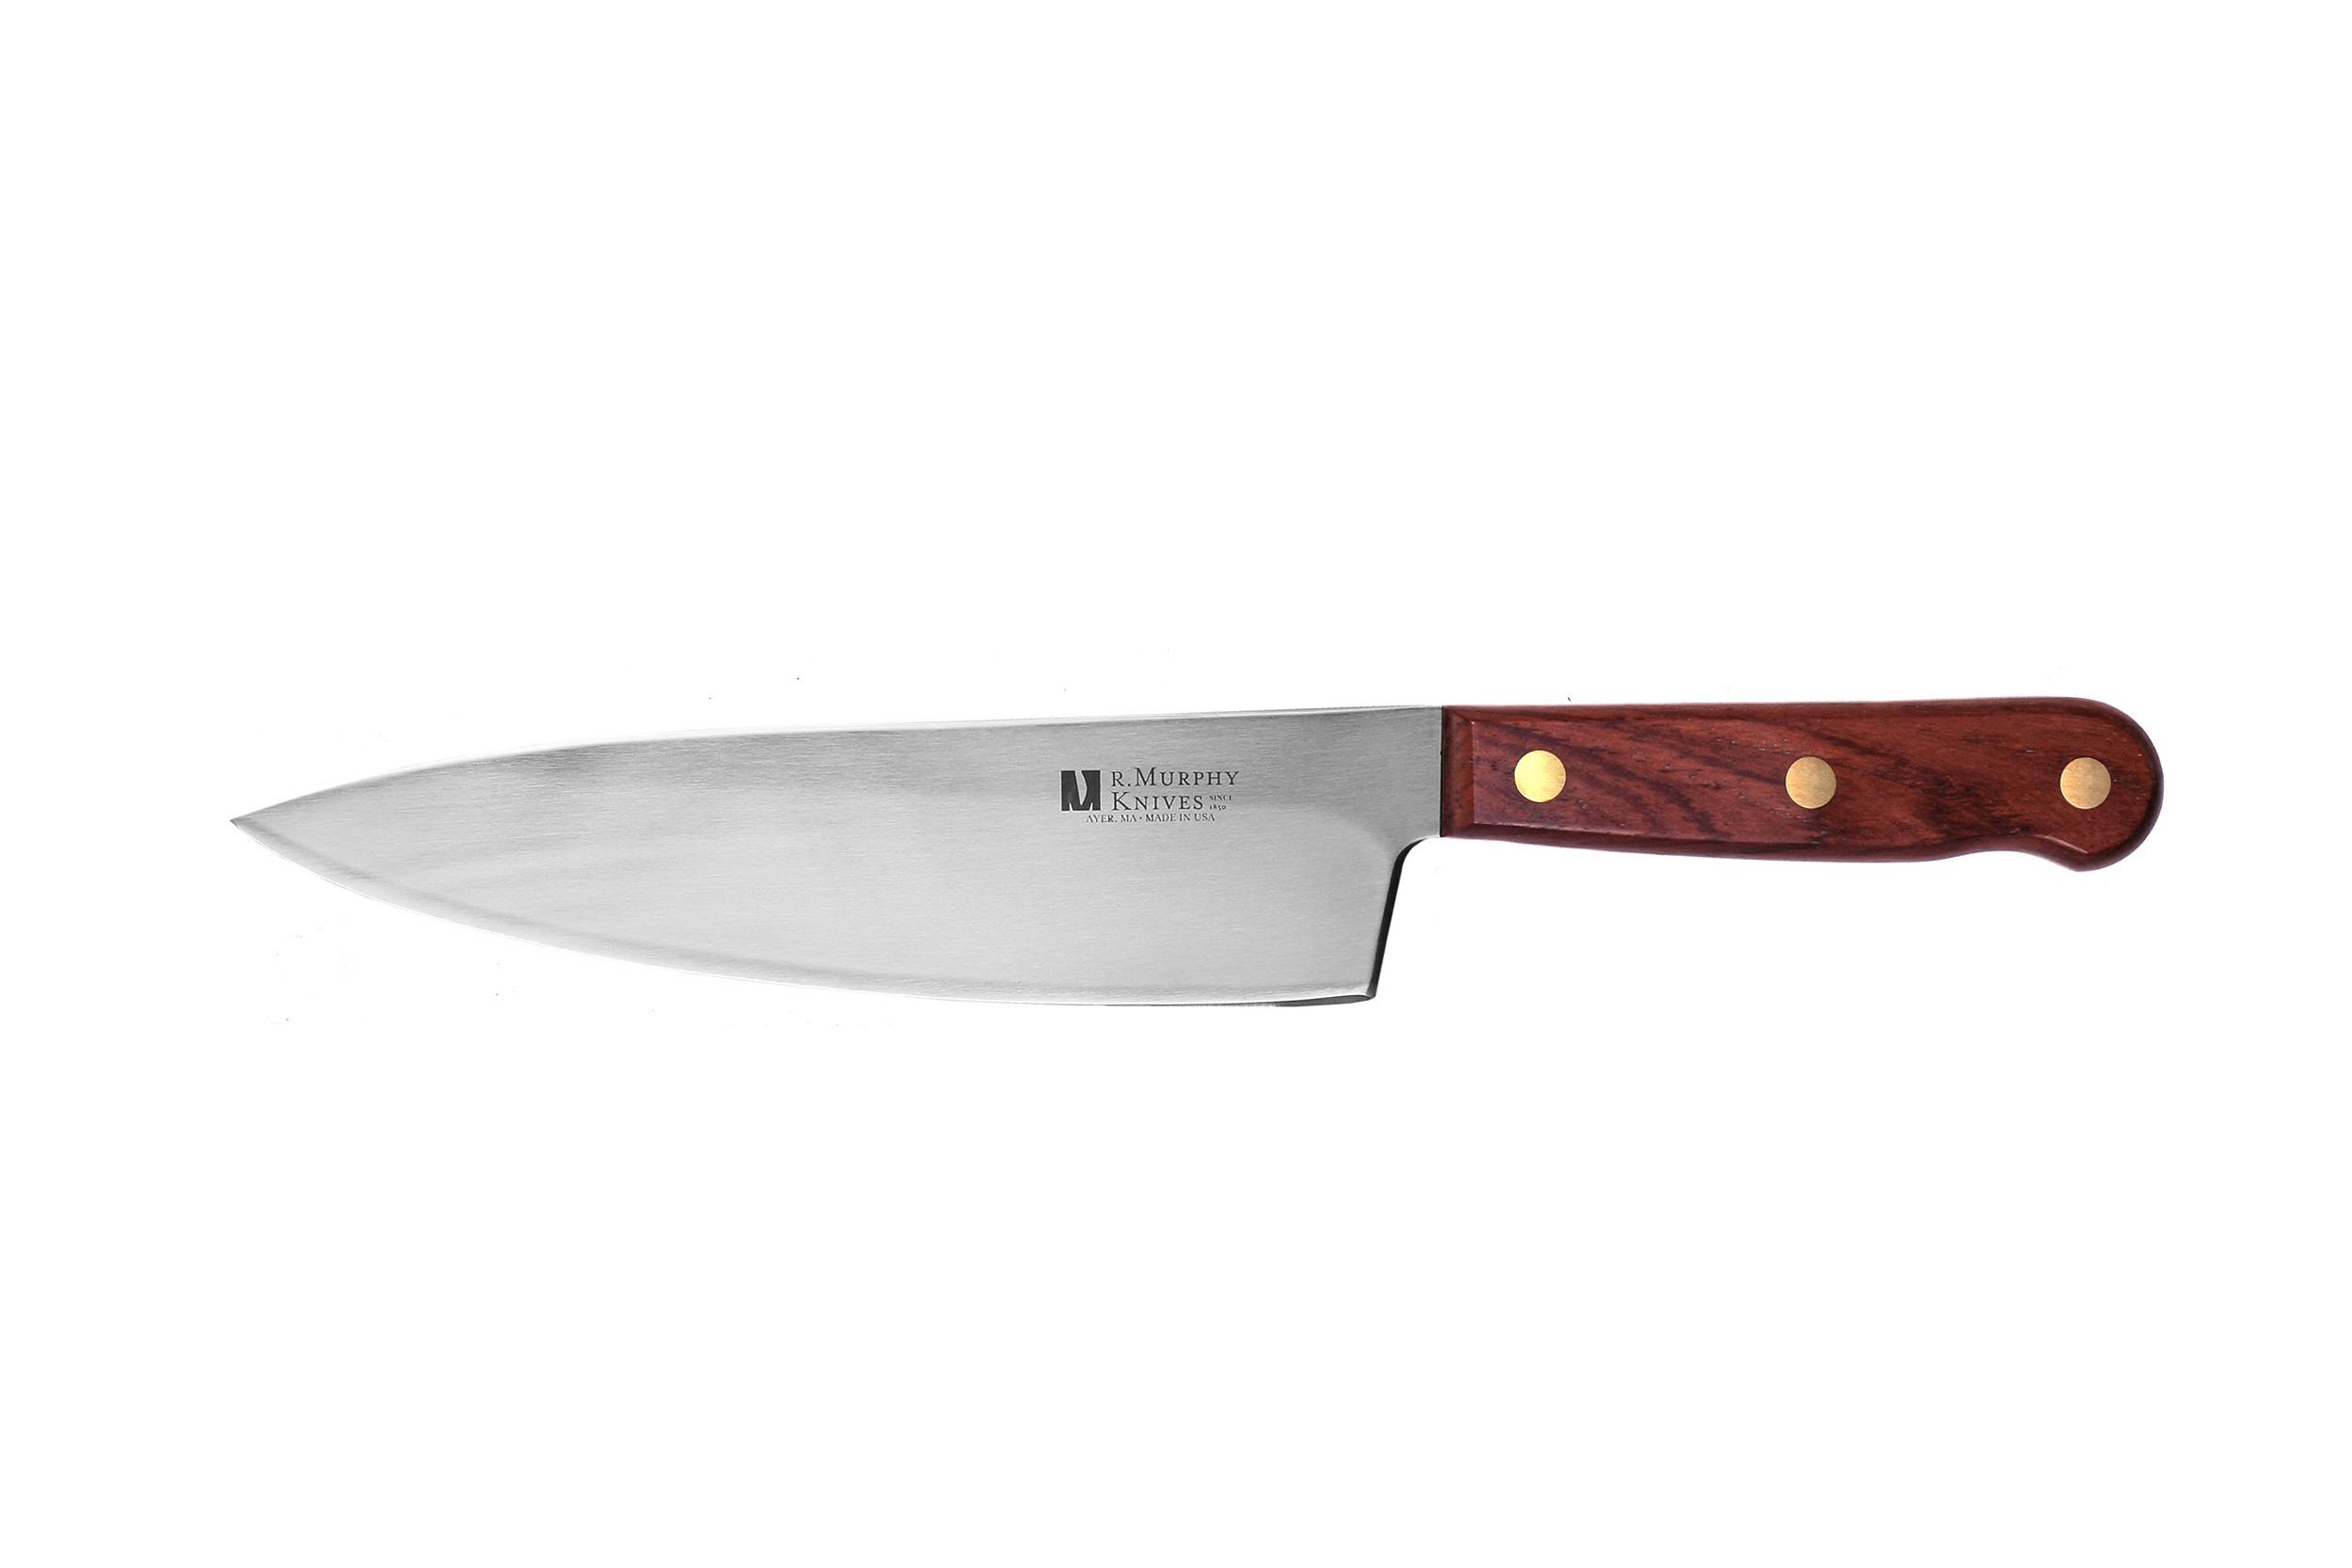knife: (238, 691, 2166, 999)
